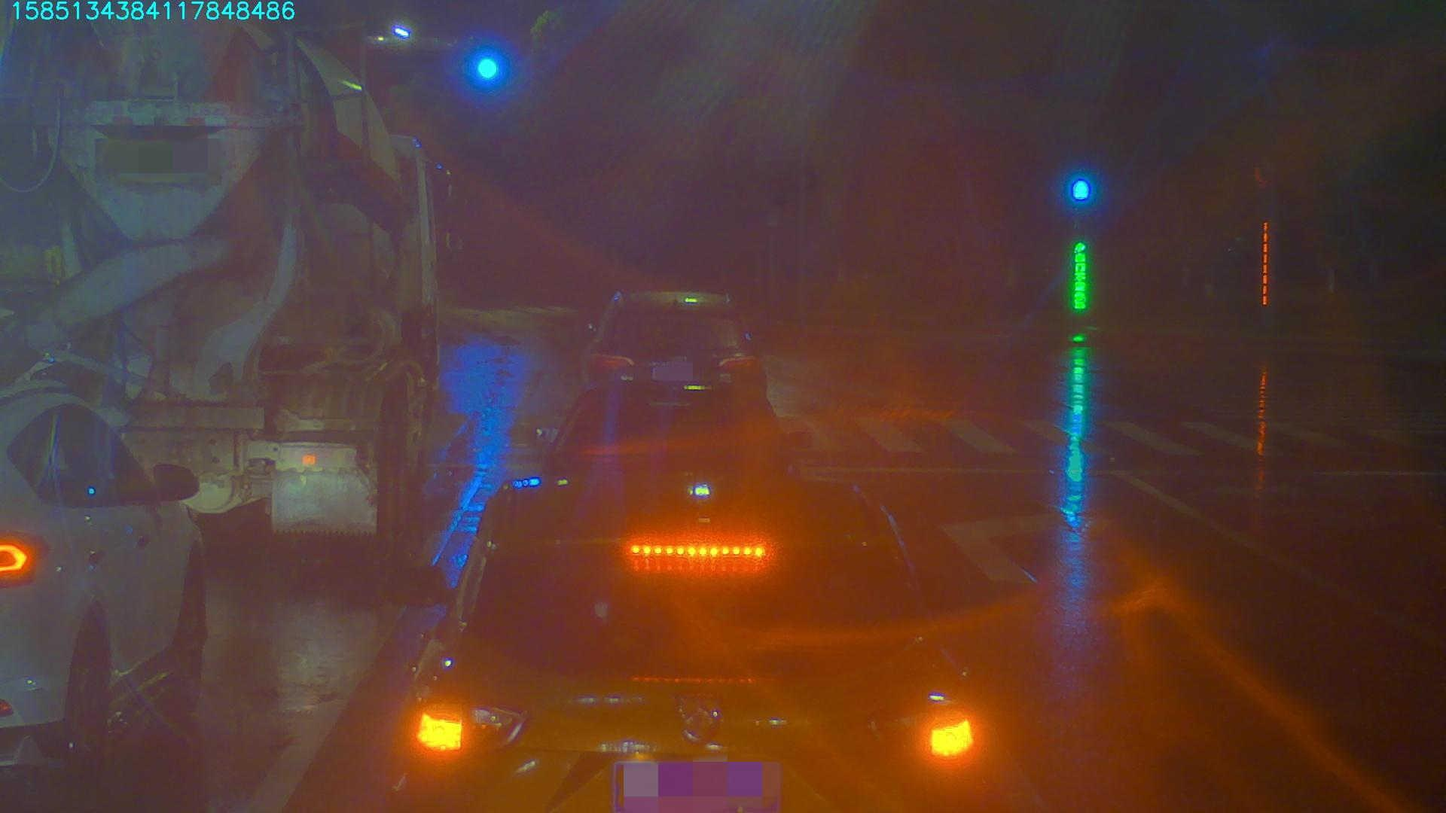green: (469, 49, 511, 92)
